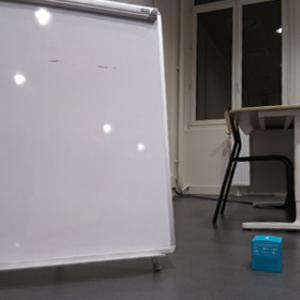big: (1, 1, 178, 268)
small: (249, 235, 284, 274)
